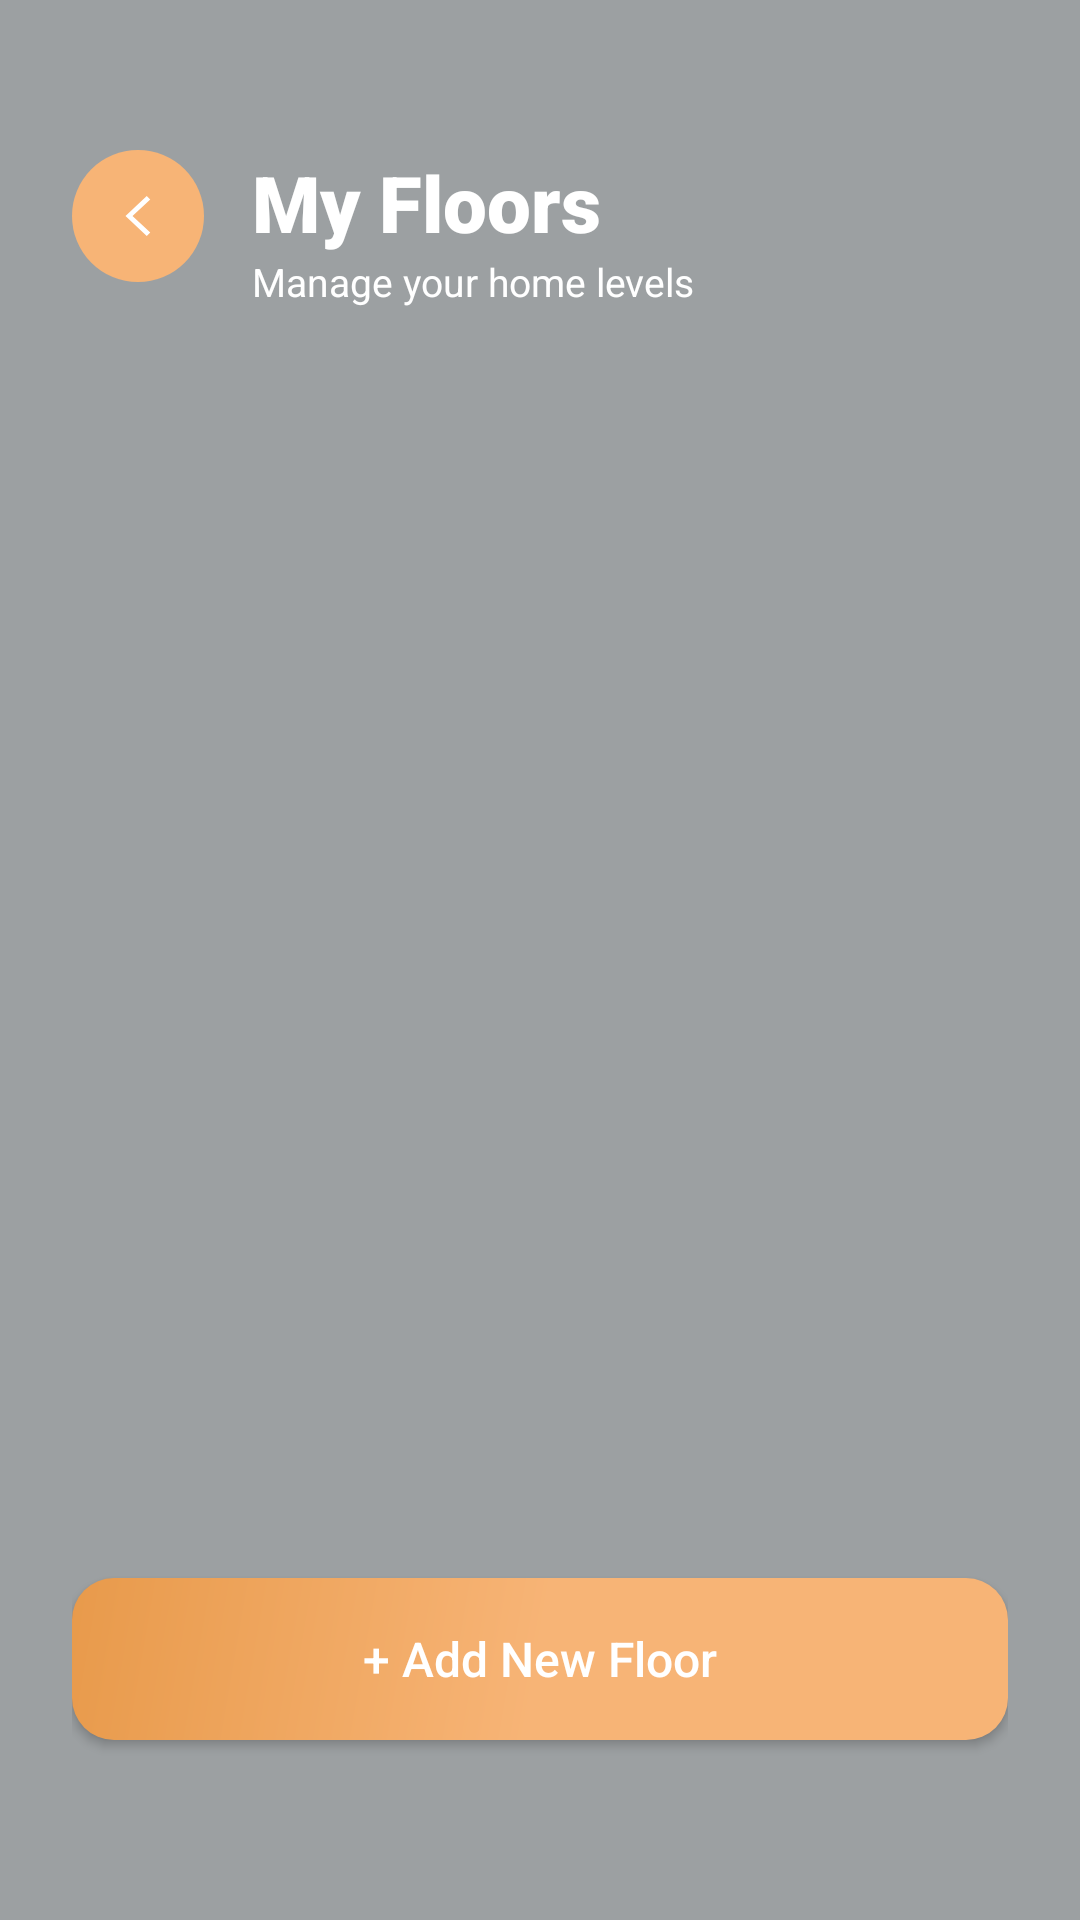

Named icons in this screenshot (1080x1920) and their bounding boxes, [x1,y1,x2,y2]:
back: [126,196,150,236]
